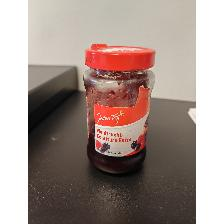Marmelade: (82, 43, 156, 177)
